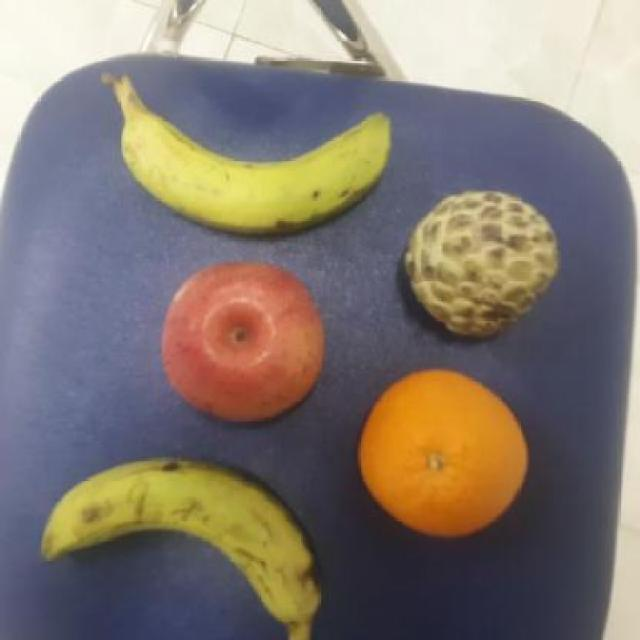apple: (158, 260, 325, 425)
banana: (39, 448, 326, 622), (110, 101, 396, 237)
oren: (352, 366, 530, 539)
sugar apple: (400, 186, 562, 339)
